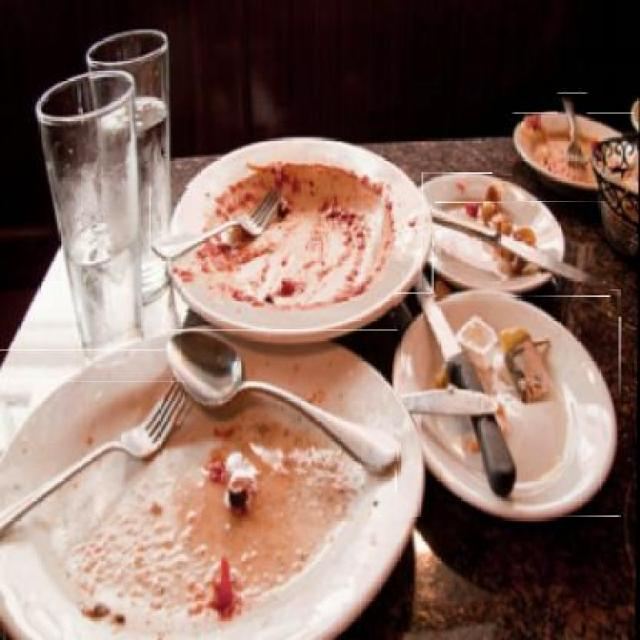Plate: (0, 349, 421, 634), (395, 291, 623, 518), (172, 138, 432, 314), (422, 174, 566, 290), (512, 112, 636, 185)
